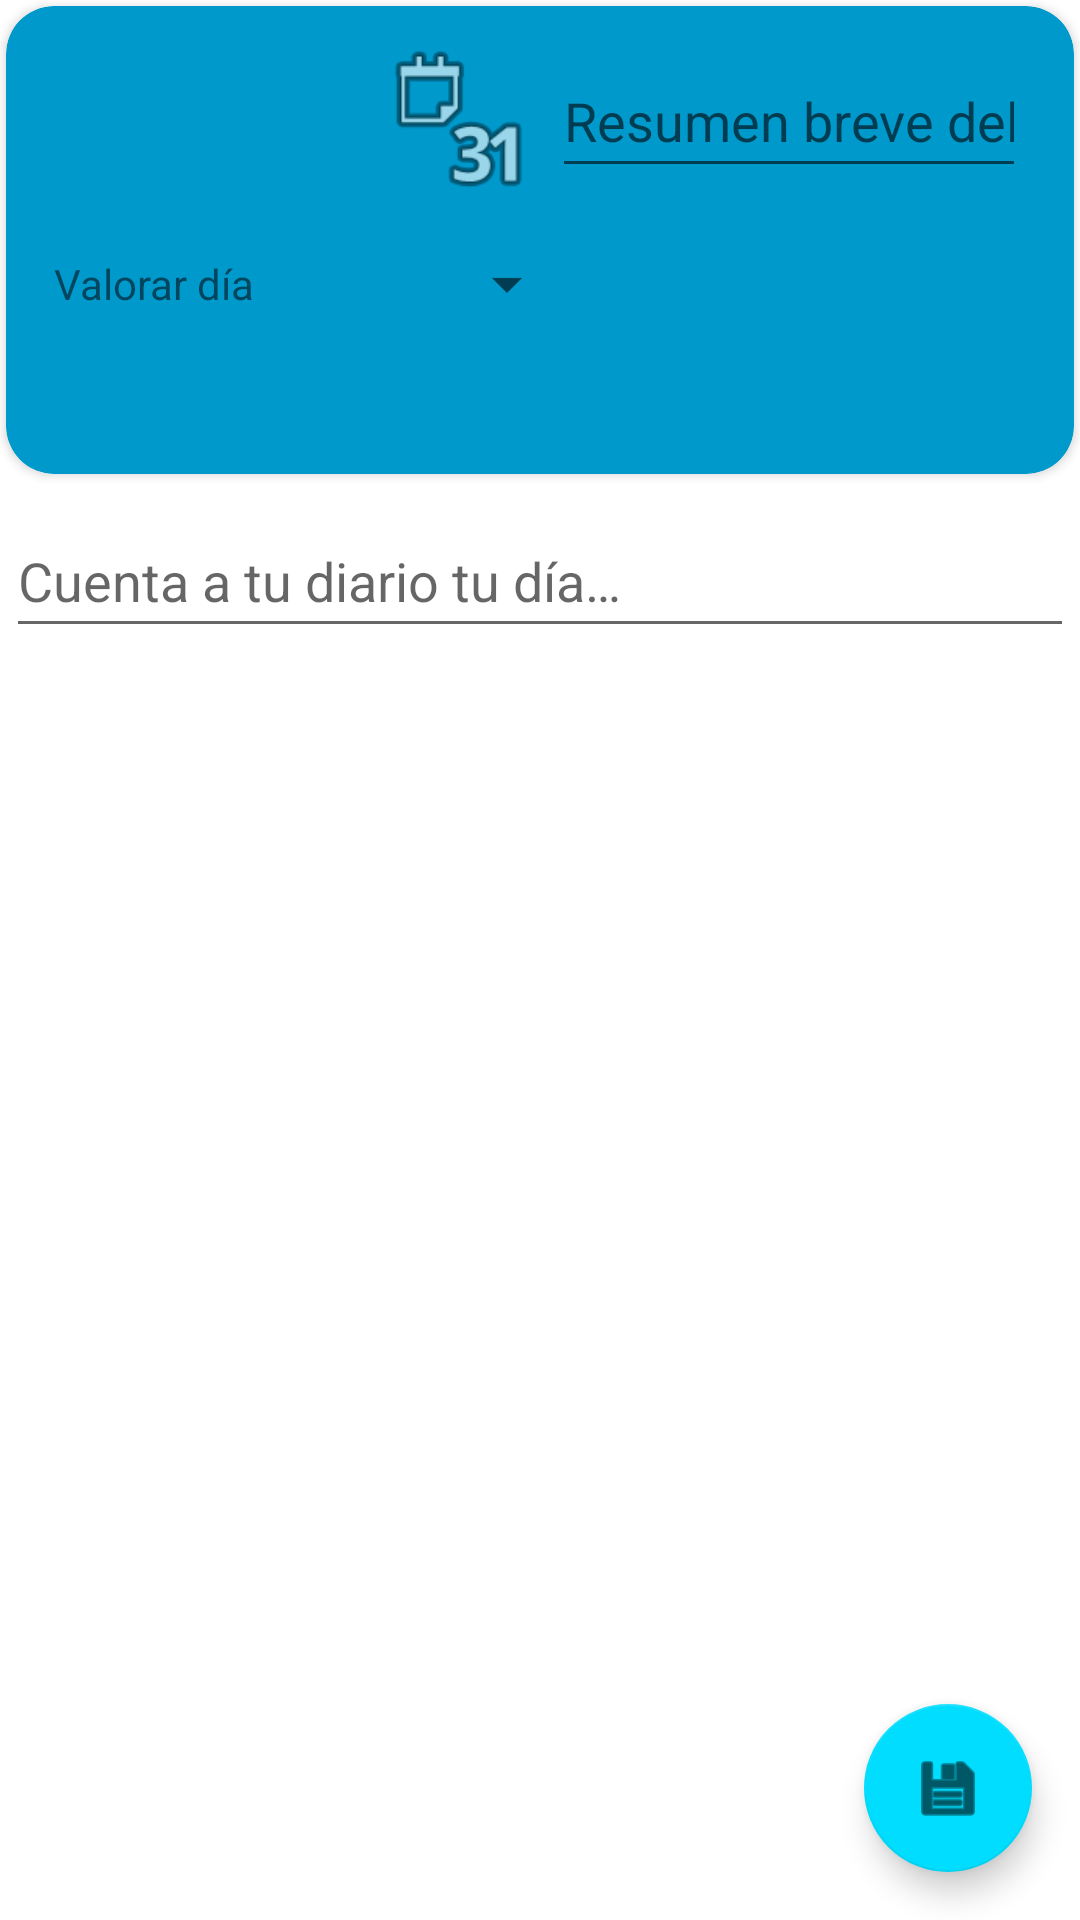

Icons on this 1080×1920 Android screen, each with the point to tap as (x,y):
month: (458,119)
save: (948,1788)
